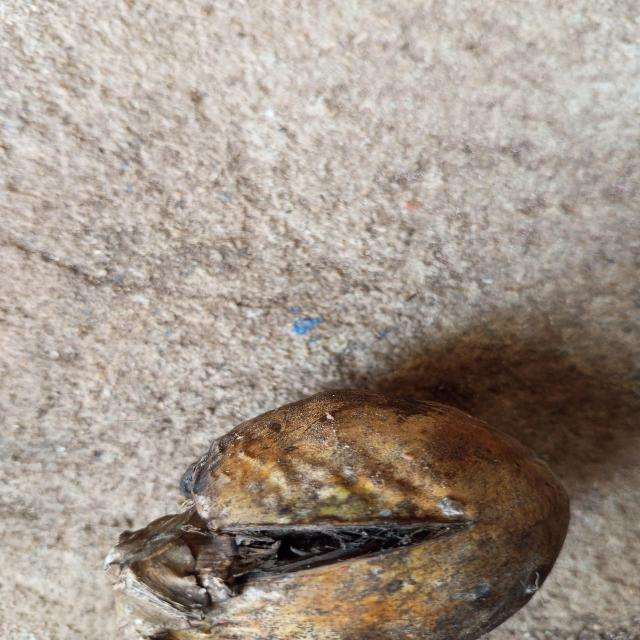damaged: (110, 379, 573, 640)
